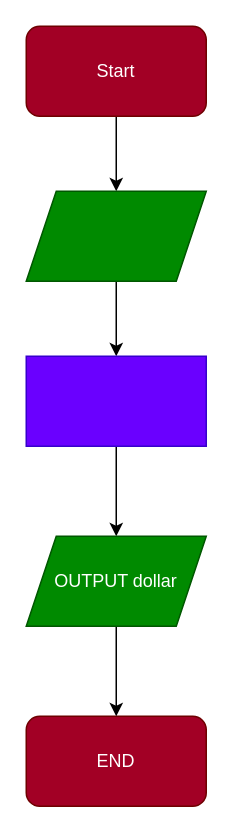
Image size: 233x833. Some labels were removed from this diagram. Each missing label, with the centre of its shape:
"Input dollar" belongs at (x=115, y=235).
"Money = dollar * 23000 vnd" belongs at (x=115, y=400).
